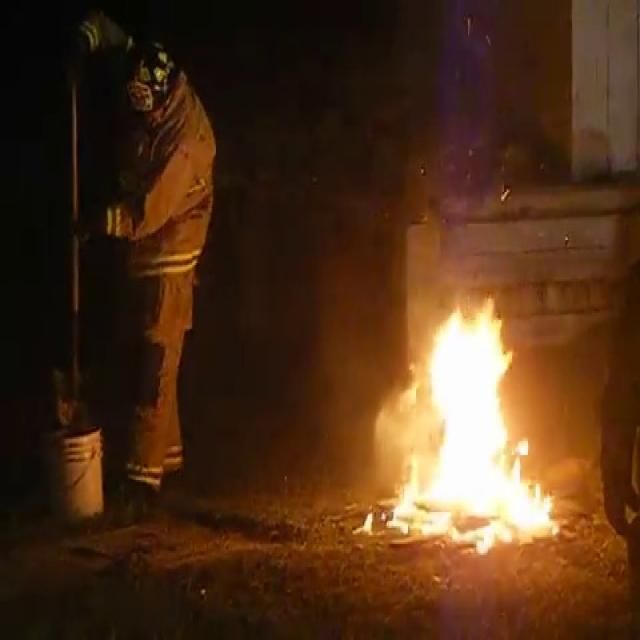Fire: (382, 289, 561, 552)
